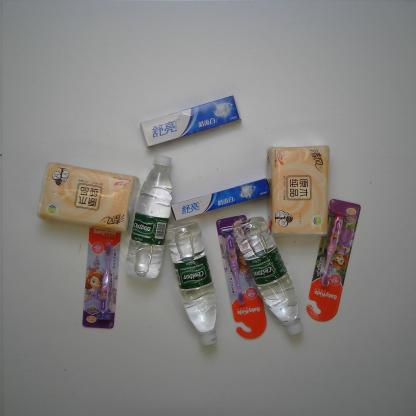Drink: (229, 213, 305, 340), (121, 156, 174, 282), (166, 218, 216, 345)
Personal Hygiene: (302, 195, 364, 322), (214, 212, 269, 340), (148, 92, 244, 150), (170, 176, 273, 224), (79, 237, 121, 331)
Tissue: (35, 161, 140, 237), (268, 140, 335, 237)
